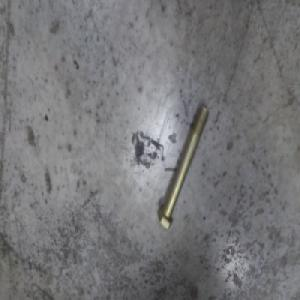Bolt: (157, 105, 208, 229)
